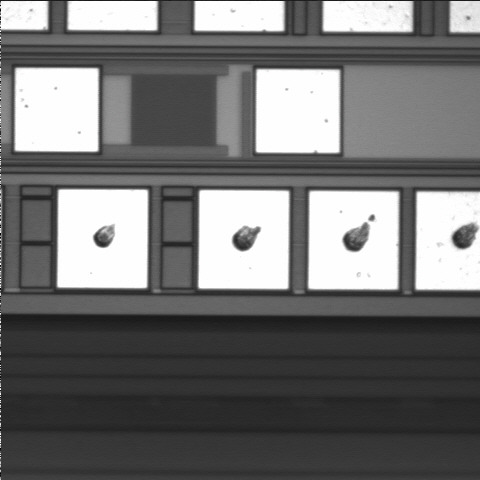pad: (57, 190, 148, 288), (308, 191, 399, 289), (199, 190, 289, 289), (256, 69, 340, 153), (15, 68, 98, 151)
